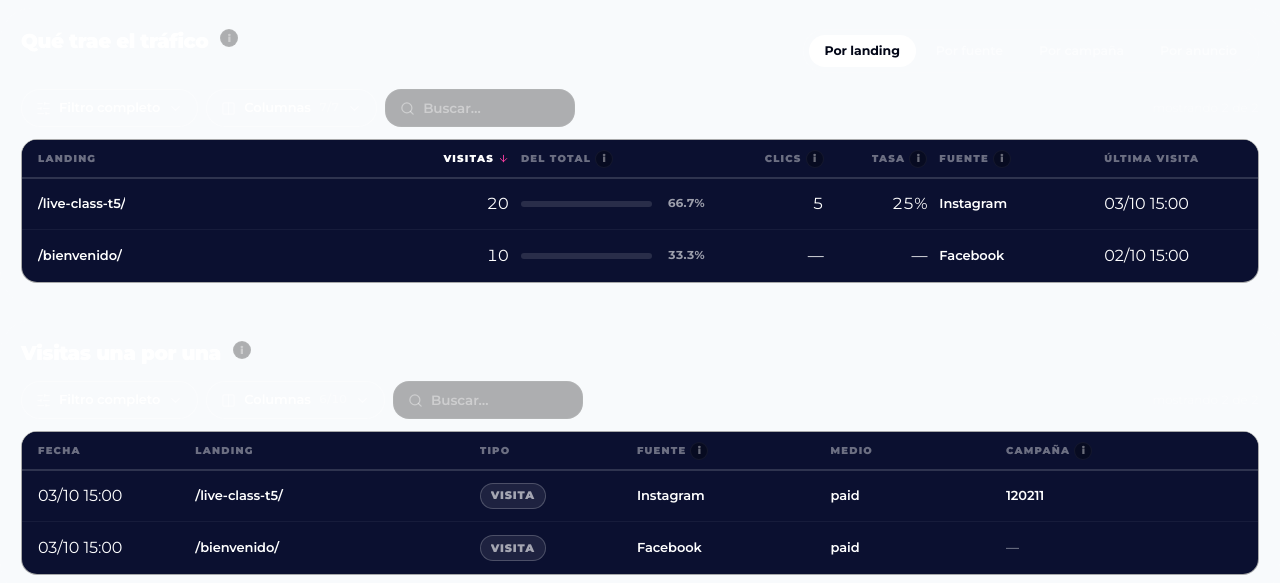
Workshop › Tráfico landings › el detalle filtra por búsqueda y abre la visita con sus UTM, sin borrar si no puede
The image size is (1280, 583).
(page scrolled)
Type "fb" into the search field labelled "Buscar" below "Visitas una por una". click: (500, 400)
box: [431,390,568,410]
(page scrolled)
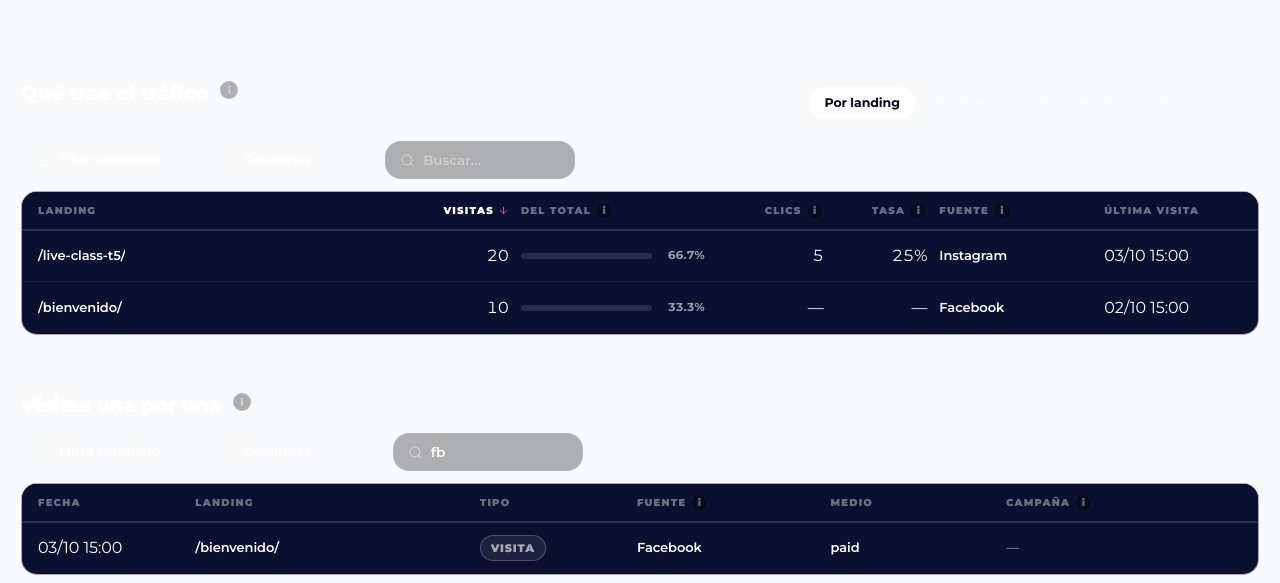
Click the row "03/10 15:00 /bienvenido/ Visita Facebook paid —". click: (528, 548)
box: [38,535,1019,561]
(page scrolled)
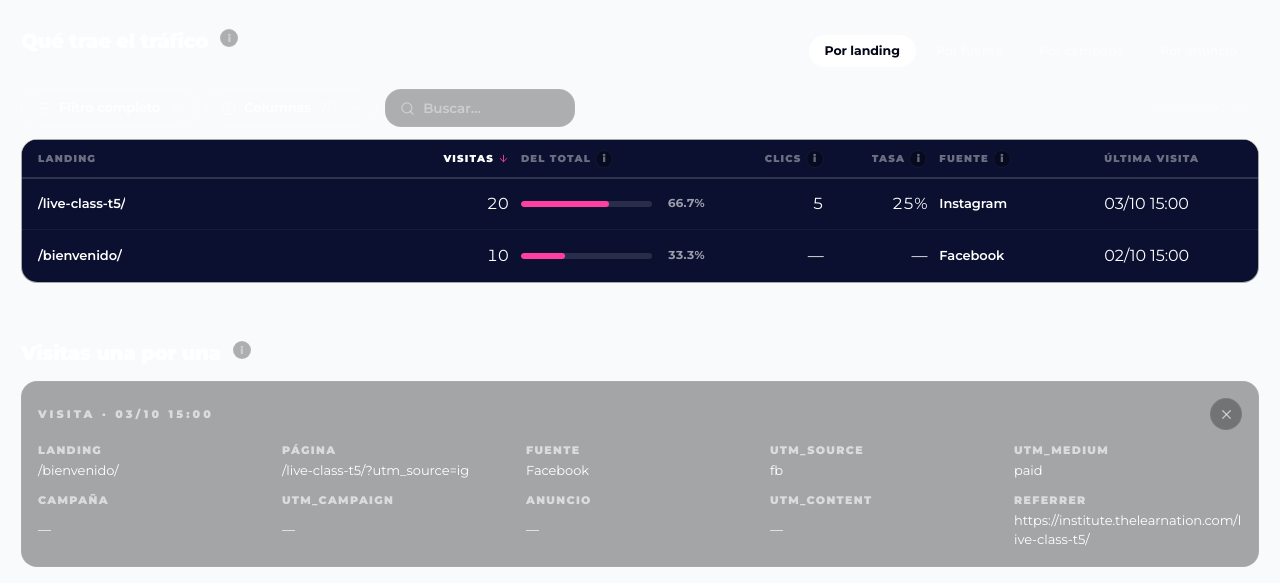
Check: the text "https://institute.thelearnation.com/live-class-t5/" is shown, box [1014,510,1242,550]
